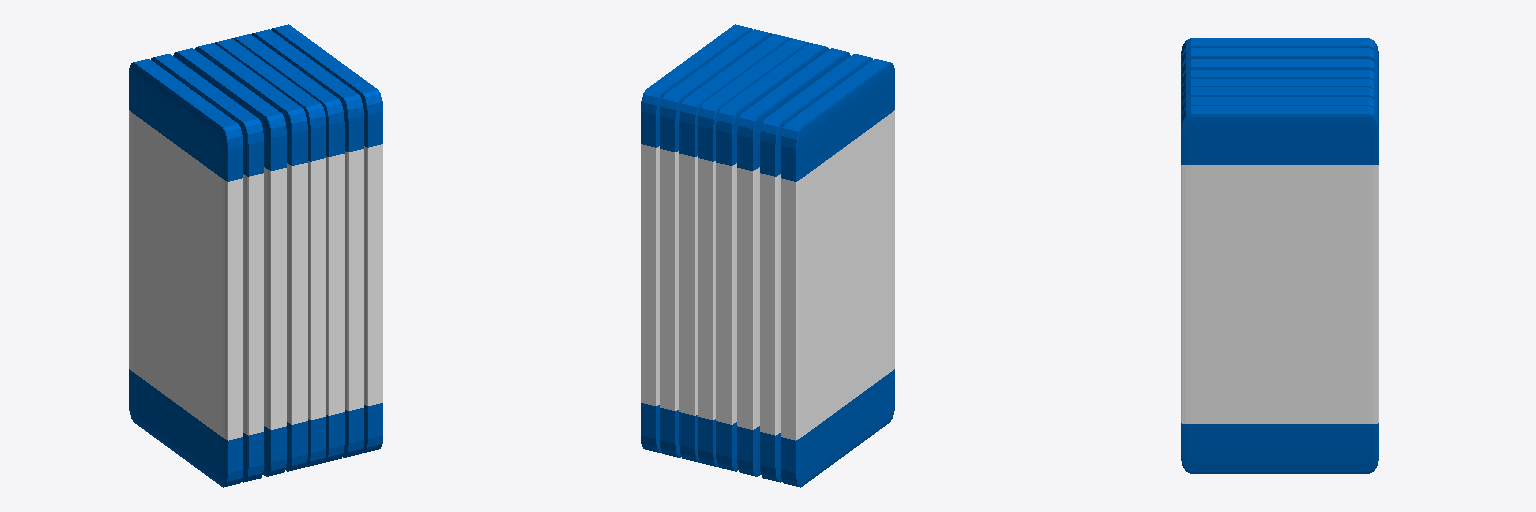
3 renders of one model, left to right at view 1: azimuth 30°, elevation 25°; view 2: azimuth 150°, elevation 25°; view 3: azimuth 270°, elevation 25°, orthographic.
Visible parts, largest first — view 1: Cube.021; view 2: Cube.021; view 3: Cube.021.
Boxes of the visible parts, <box> form: Cube.021: <box>129,24,382,487</box>; Cube.021: <box>641,24,894,487</box>; Cube.021: <box>1181,38,1378,473</box>.
Size of the model in its own units: 0.0914 by 0.2 by 0.1.
Materials: 1 (1 with a texture image).